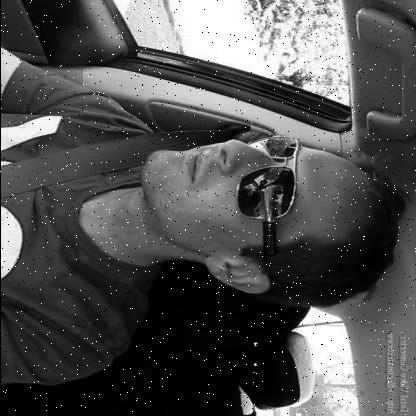seatbelt: (0, 80, 411, 317)
